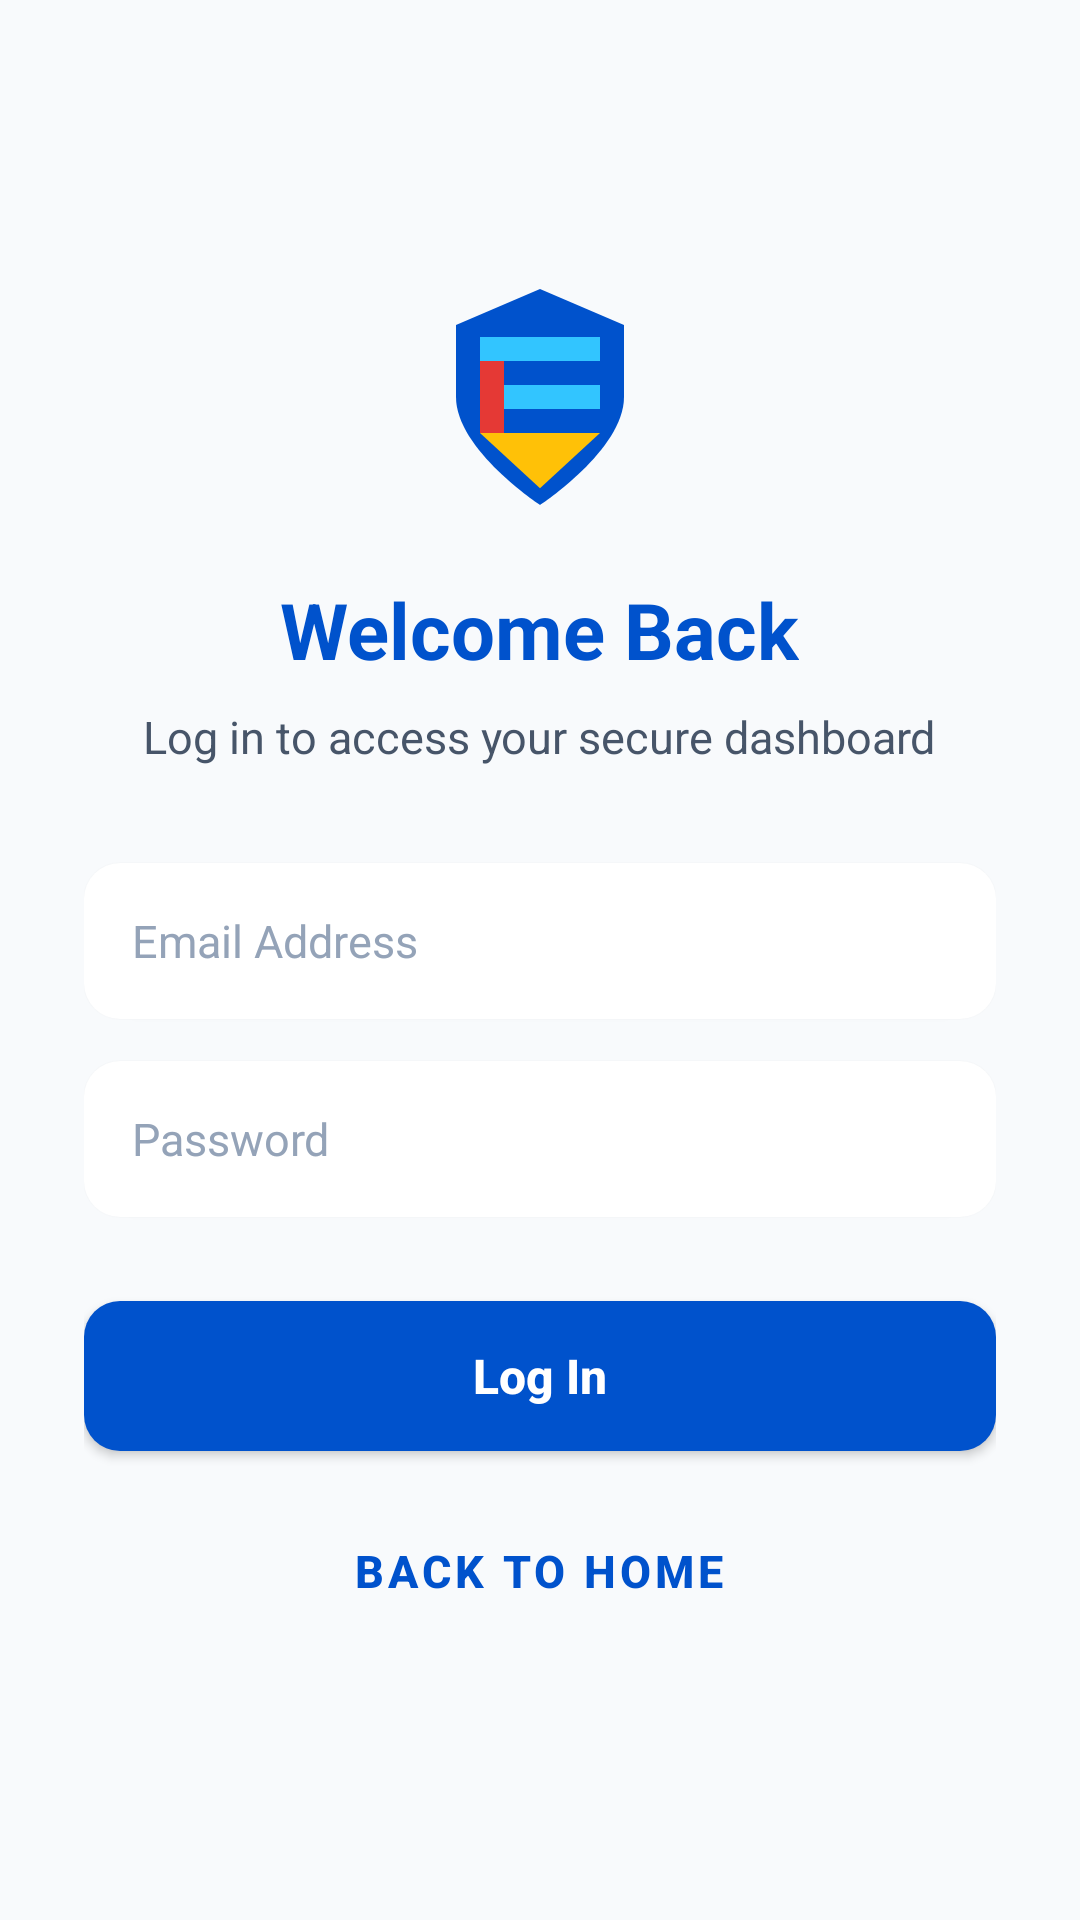

Named icons in this screenshot (1080 x 1920) and their centers, point (x, y):
custom shield: point (540, 397)
